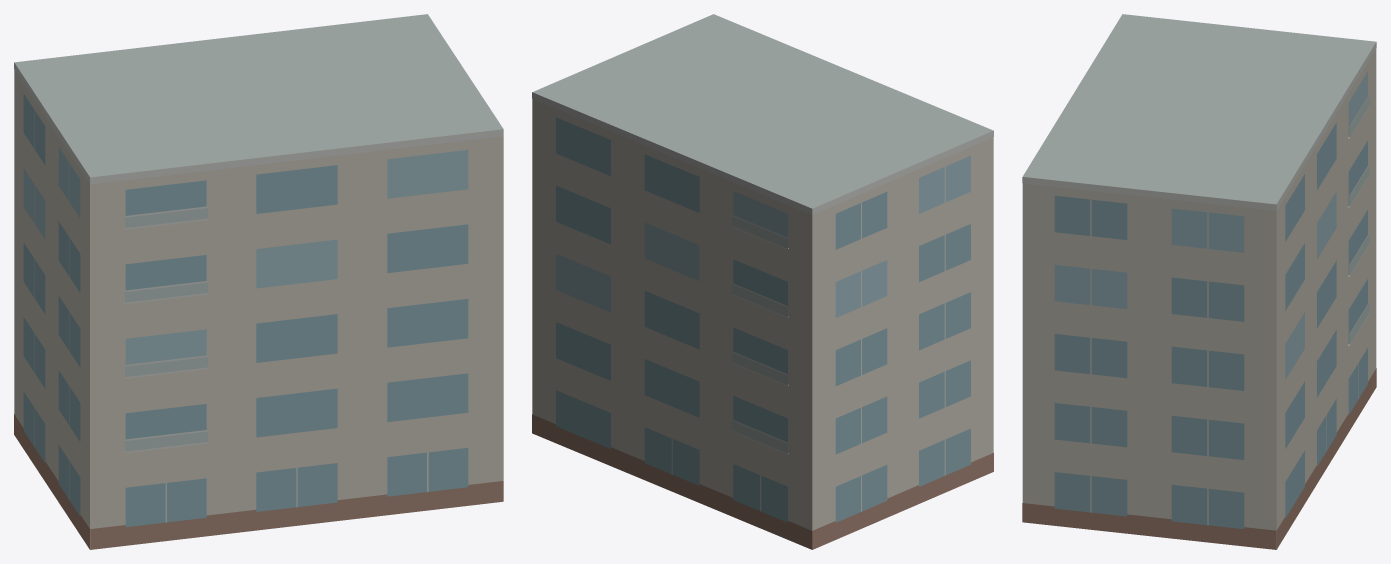
File: survey-upis-32991851.glb
3 renders of one model, left to right at view 1: azimuth 30°, elevation 25°; view 2: azimuth 150°, elevation 25°; view 3: azimuth 270°, elevation 25°, orthographic. The views are drawn at different scales.
Visible parts, largest first — view 1: survey-upis-32991851.tmp; view 2: survey-upis-32991851.tmp; view 3: survey-upis-32991851.tmp.
Part boxes in pixels (x1,y1,x2,y2): survey-upis-32991851.tmp: [14, 14, 503, 549]; survey-upis-32991851.tmp: [532, 14, 993, 549]; survey-upis-32991851.tmp: [1022, 14, 1376, 549].
Size of the model in its own units: 15.38 by 13 by 12.09.
